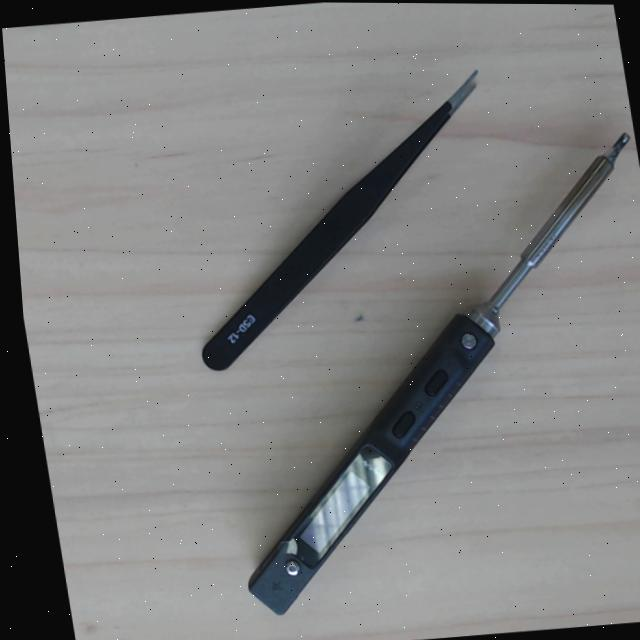Tweezers: (193, 63, 491, 376)
